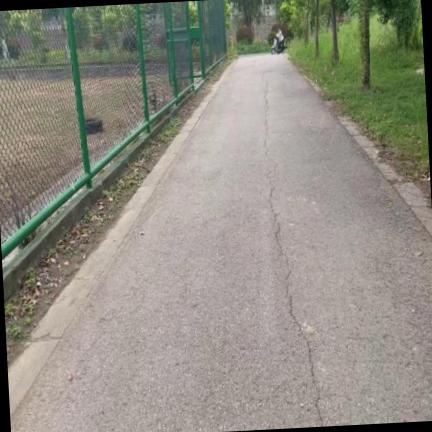Road: (11, 56, 431, 431)
